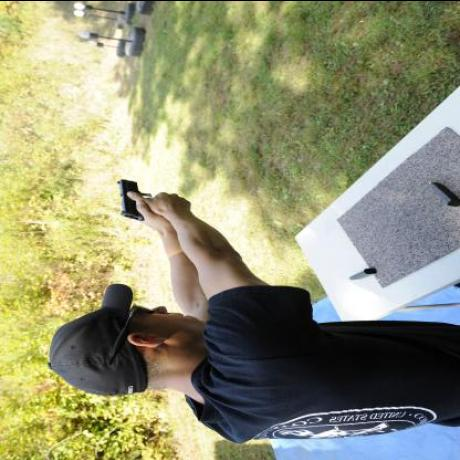1: (47, 188, 460, 444)
weapon: (99, 166, 181, 230)
